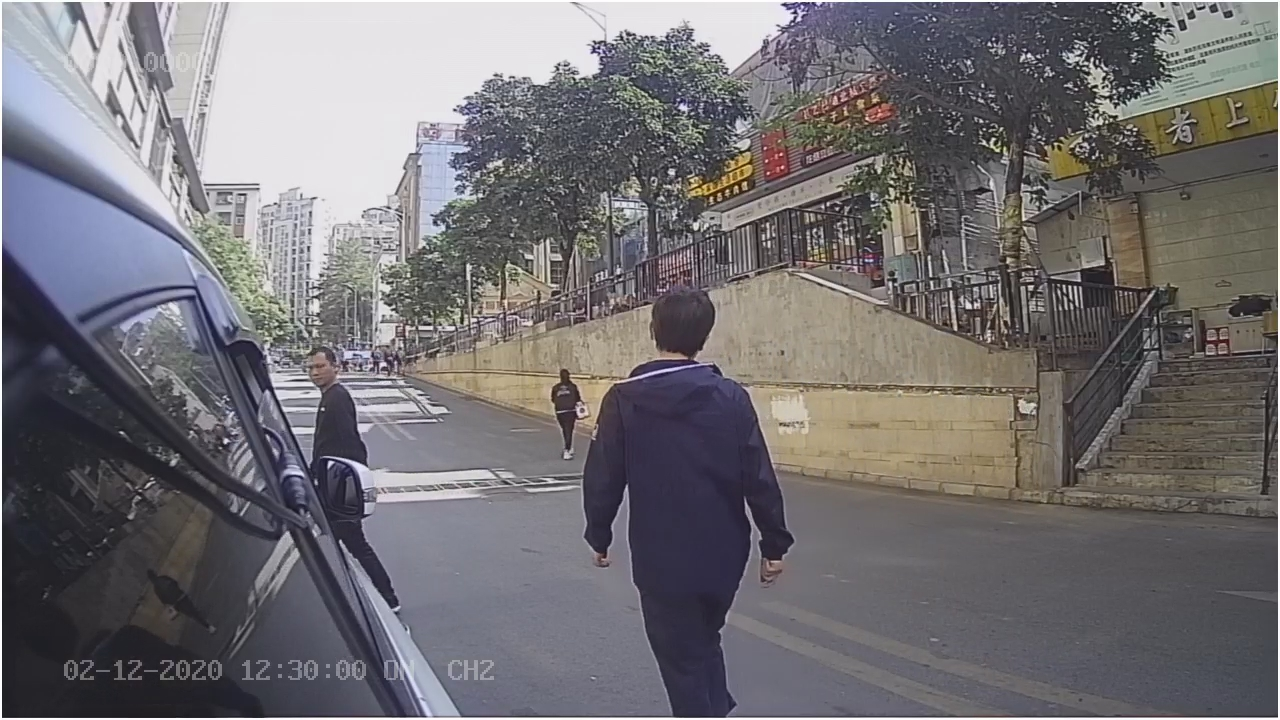person: (582, 277, 798, 593), (303, 345, 371, 451)
